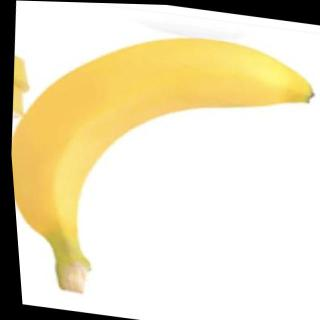banana: (0, 11, 320, 273)
